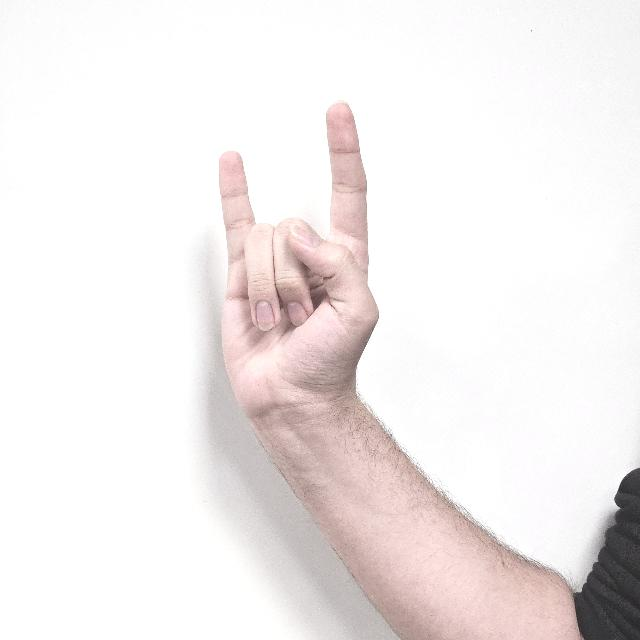L: (217, 104, 379, 408)
